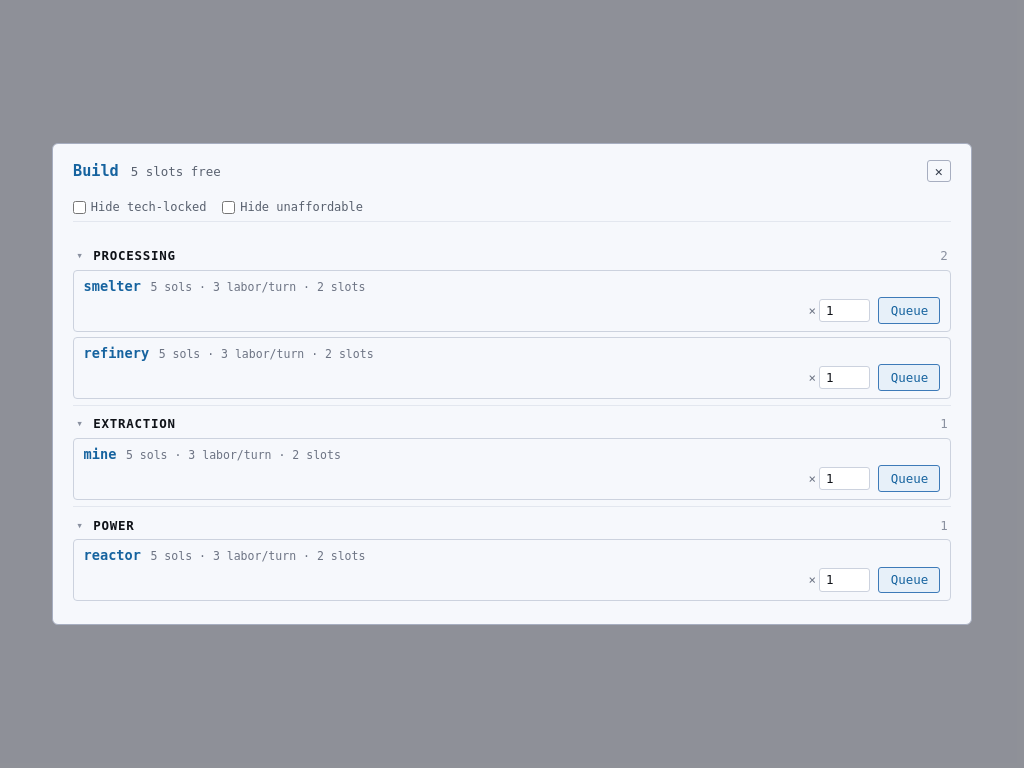
BuildDialog category tree › collapses and re-expands one category without touching the others
Click the button with test id "build-cat-toggle-Processing".
click(134, 256)  # box [73, 242, 951, 270]
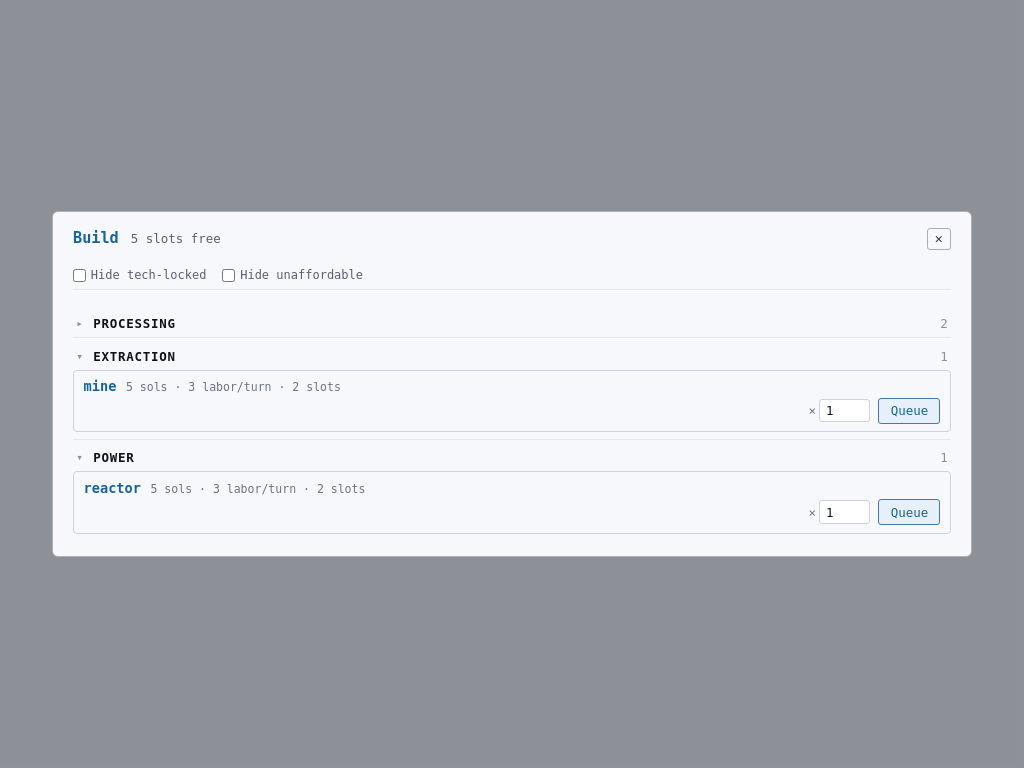
Expected: the button with test id "build-cat-toggle-Processing" is collapsed
Click the button with test id "build-cat-toggle-Processing".
click(134, 323)  # box [73, 310, 951, 337]
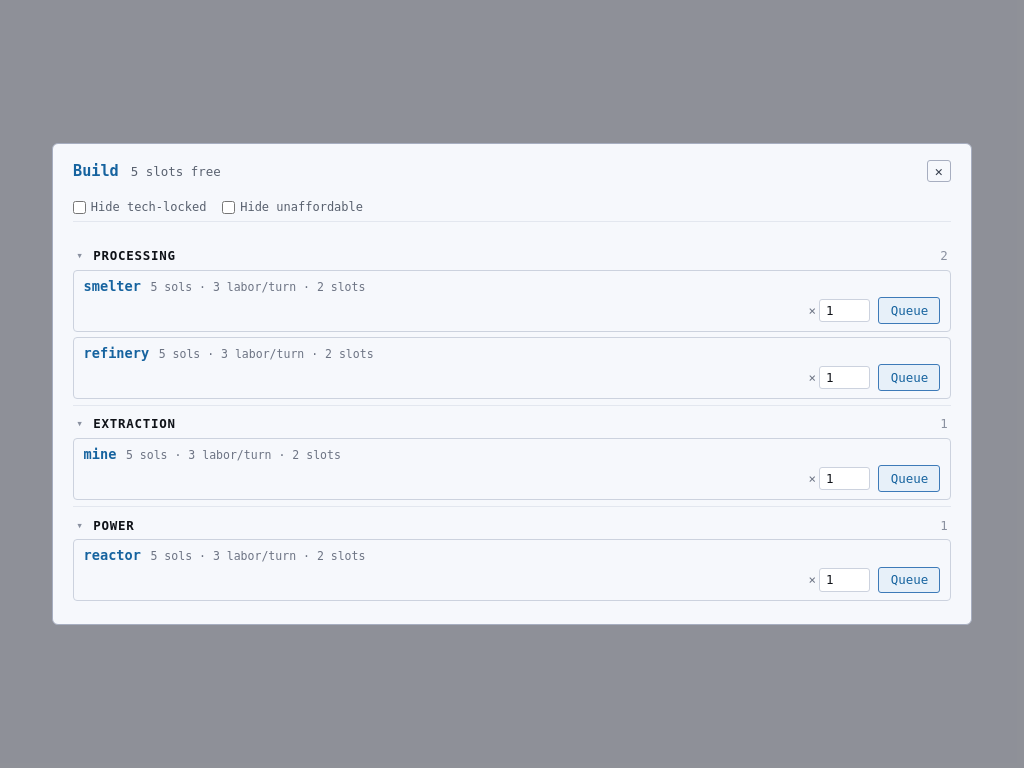
Expected: the button with test id "build-cat-toggle-Processing" is expanded, [73, 242, 951, 270]
